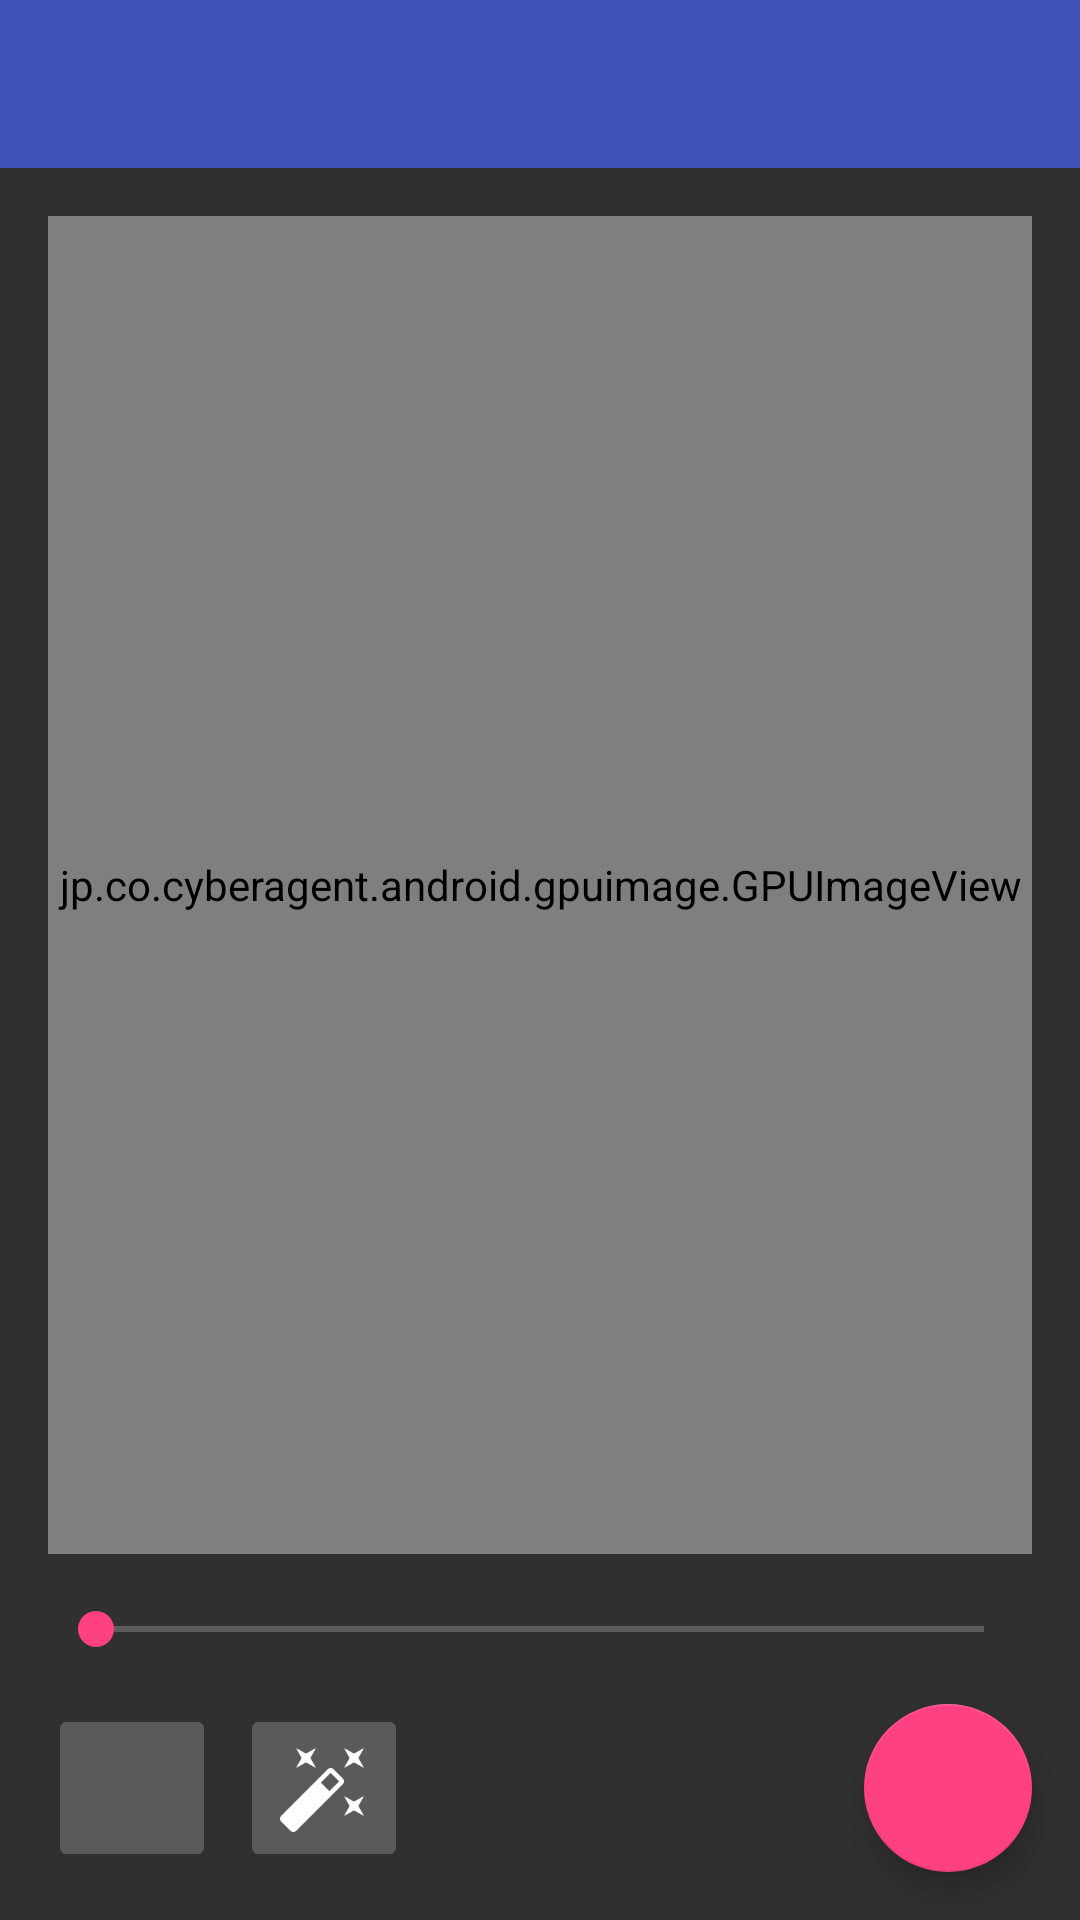

Icon click points for this 1080 × 1920 phone screenshot, format point (x, y):
auto fix: point (324, 1788)
